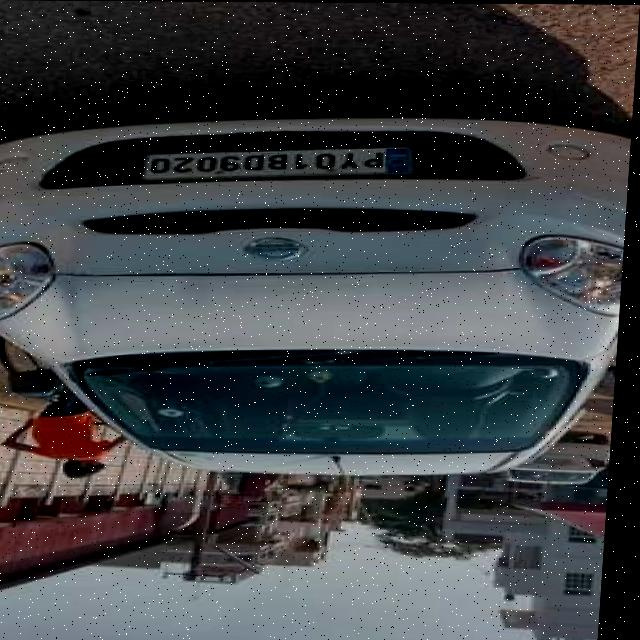plate: (144, 144, 418, 184)
